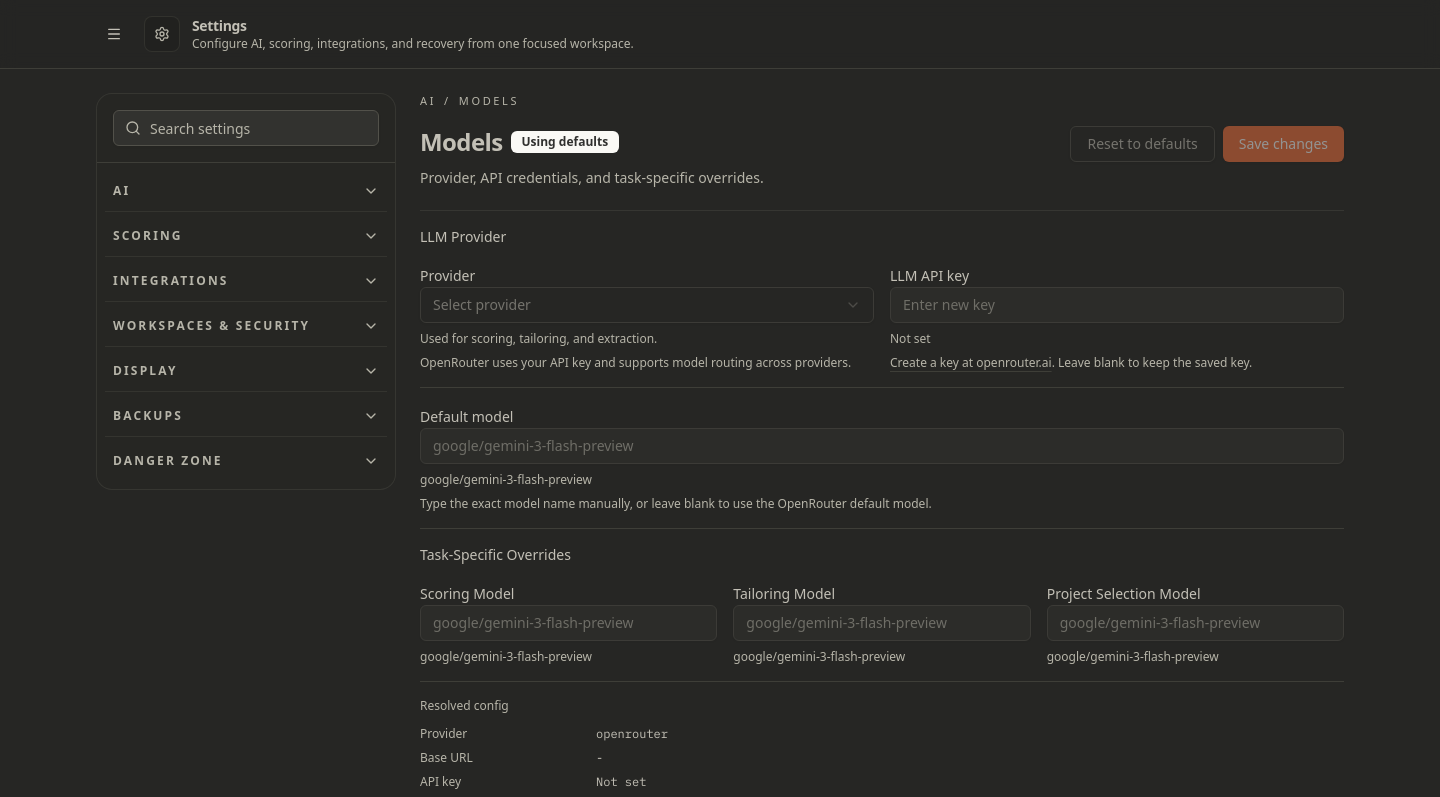
SettingsPage › enables save button when display setting is changed
Click the button "Display" at (145, 370), box [113,351,379,391]
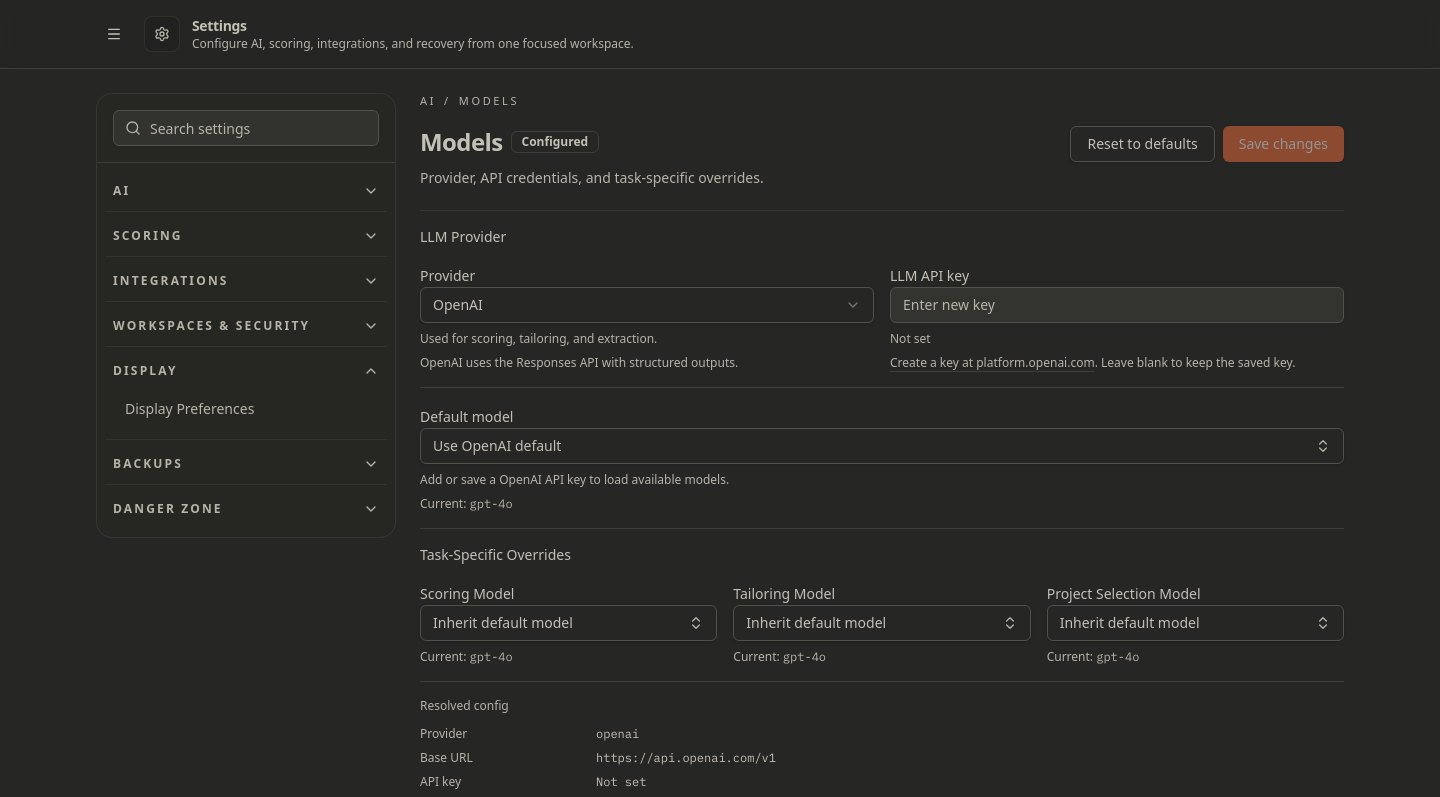
Now the button "Display Preferences" is shown
Click the button "Display Preferences" at (246, 409), box [113,391,379,427]
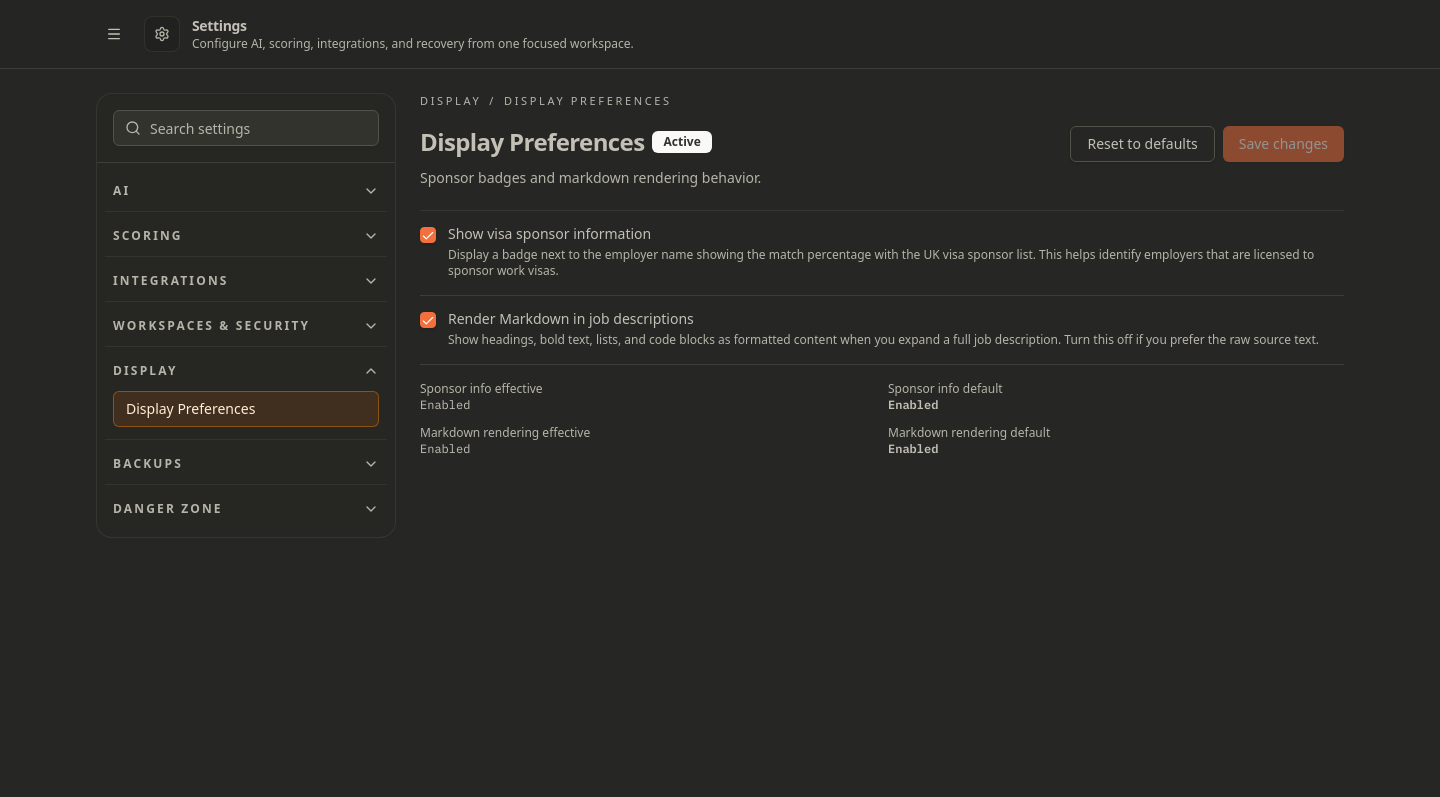
Click the checkbox named "show visa sponsor information" next to "Show visa sponsor information" at (428, 234), box [420,226,436,242]
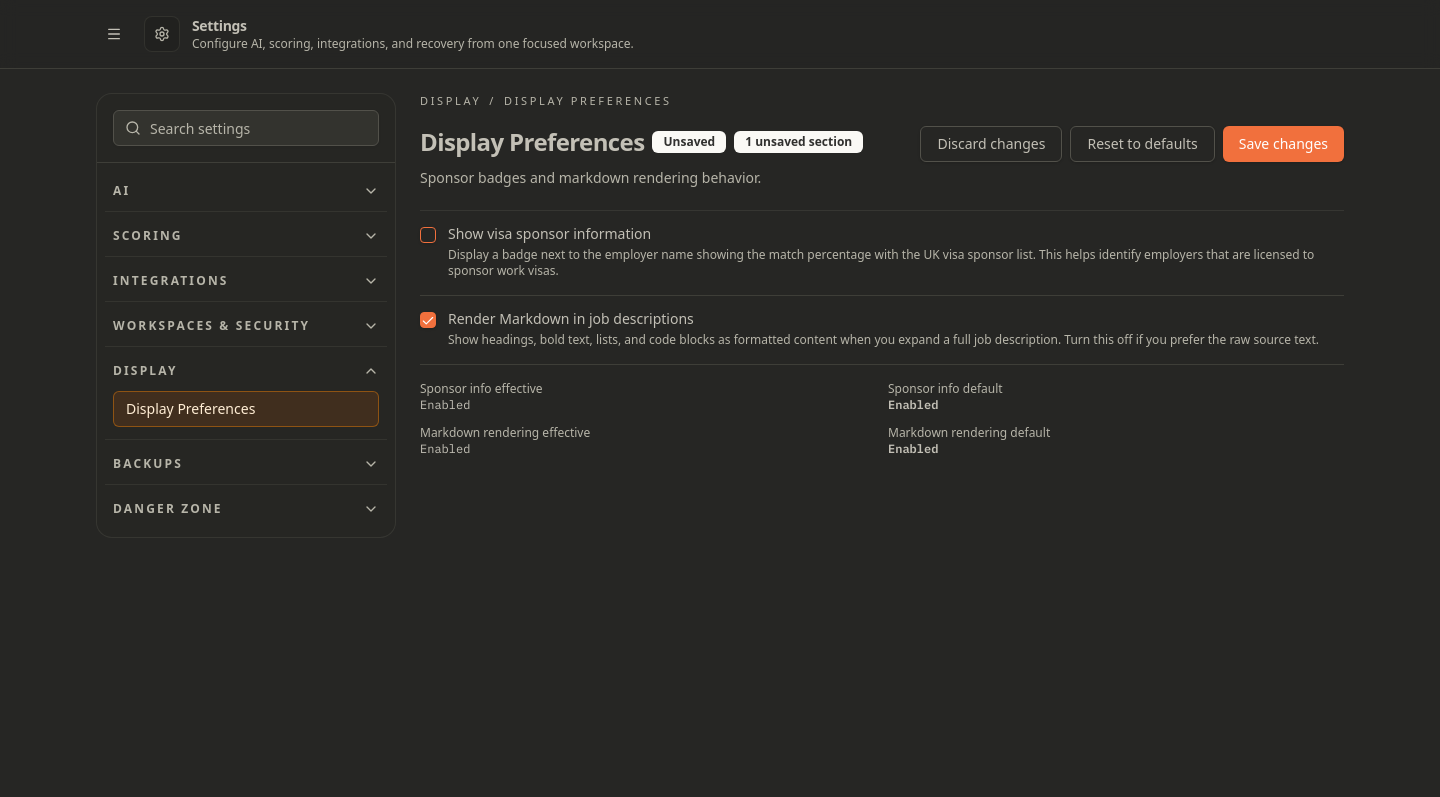
Now the button "Save changes" is enabled, box [1223,126,1344,162]
